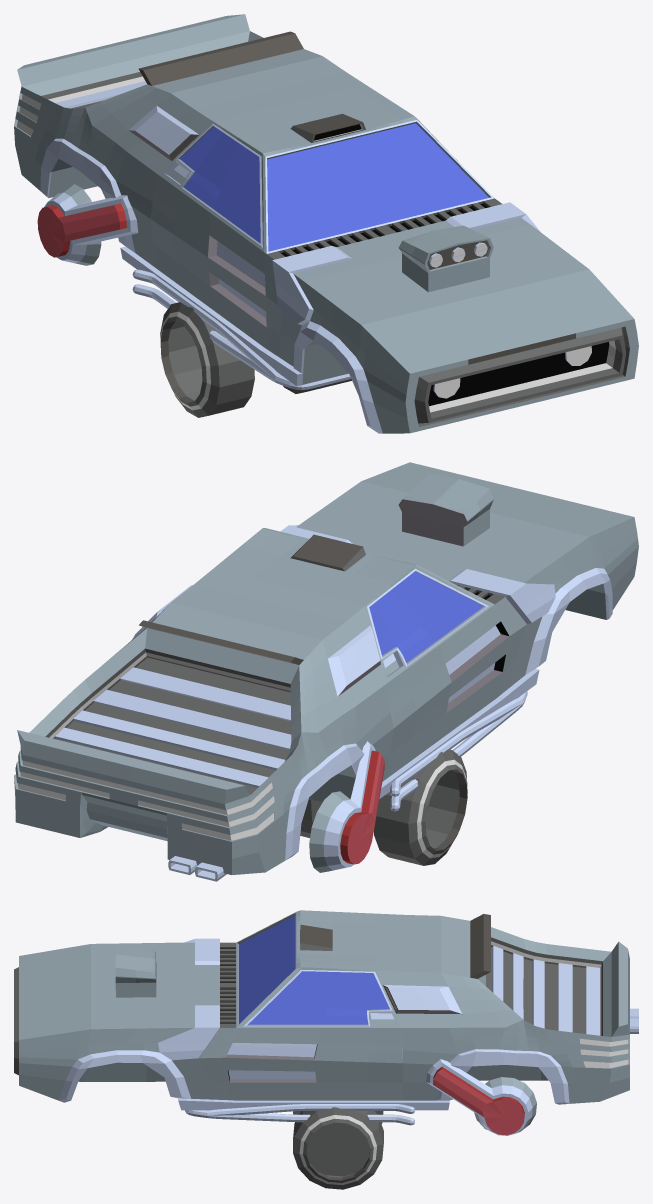
File: car1.fbx
3 views of the same model, one above another, from view 1: azimuth 30°, elevation 25°; view 2: azimuth 150°, elevation 25°; view 3: azimuth 270°, elevation 25° (orthographic). The views are drawn at different scales.
Visible parts, largest first — view 1: Car, Car.001, BW, Car.005, Car.003; view 2: Car, Car.001, BW, Car.005, Car.003; view 3: Car, Car.002, BW, Car.004, Car.003.
Boxes of the visible parts, x1,y1,x2,y2 form: Car: (14, 14, 638, 433); Car.001: (150, 121, 266, 357); BW: (160, 302, 254, 417); Car.005: (37, 184, 138, 265); Car.003: (398, 225, 493, 292); Car: (14, 462, 638, 881); Car.001: (365, 565, 509, 781); BW: (374, 749, 467, 865); Car.005: (309, 741, 384, 872); Car.003: (398, 473, 493, 546); Car: (14, 910, 638, 1125); Car.002: (225, 967, 402, 1108); BW: (293, 1107, 383, 1189); Car.004: (426, 1059, 536, 1135); Car.003: (115, 944, 156, 997).
Size of the model in its own units: 213 by 179 by 485.
